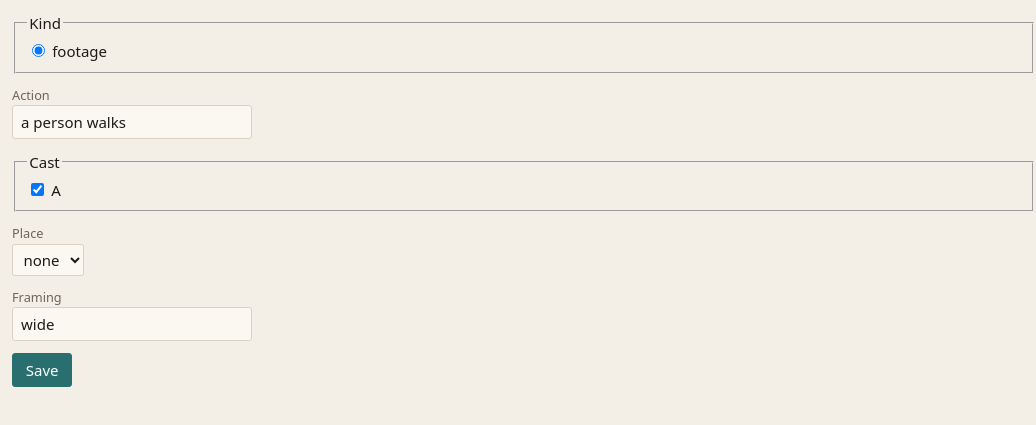
server 422 shown inline
Click the button "Save" at (42, 370), box [12, 353, 72, 387]
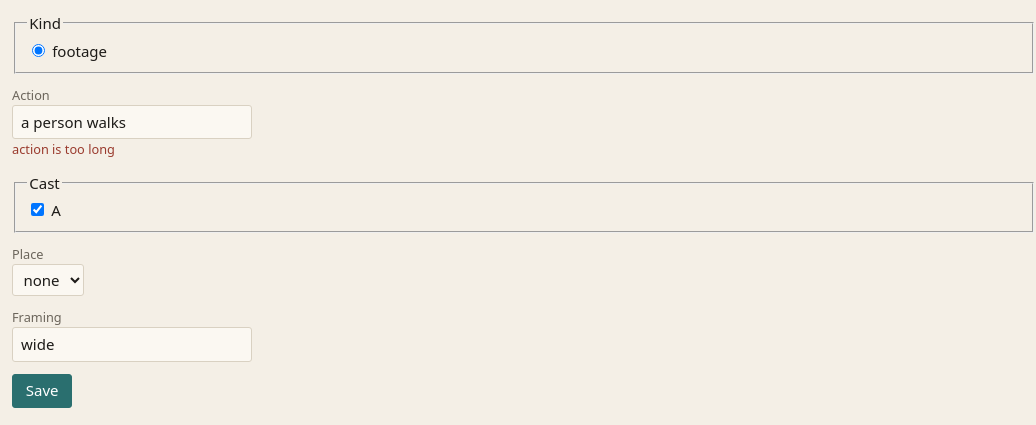
expect the text "action is too long" is shown: met, box [12, 140, 115, 158]
